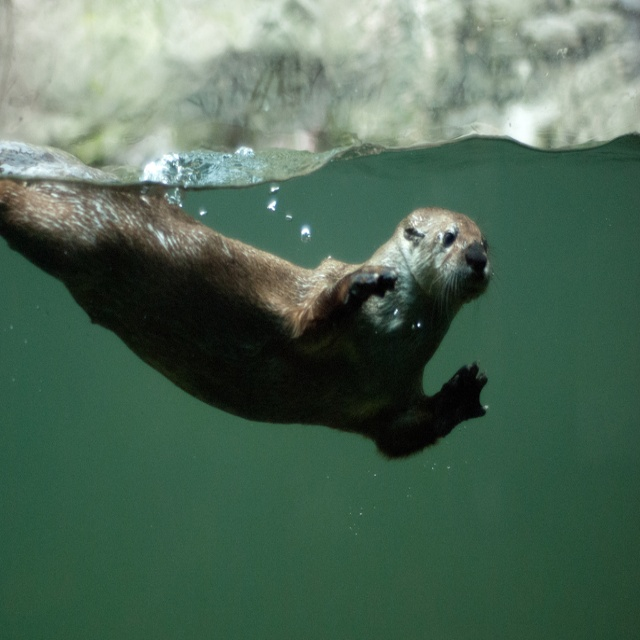Otter: (0, 179, 502, 461)
